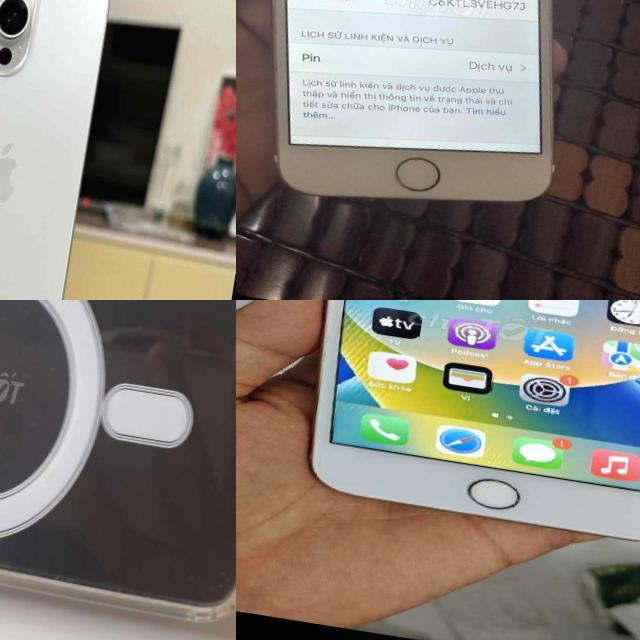gen_11: (0, 300, 236, 640)
gen_12_13: (0, 0, 124, 300)
gen_7_8: (270, 300, 640, 556), (236, 0, 623, 235)
